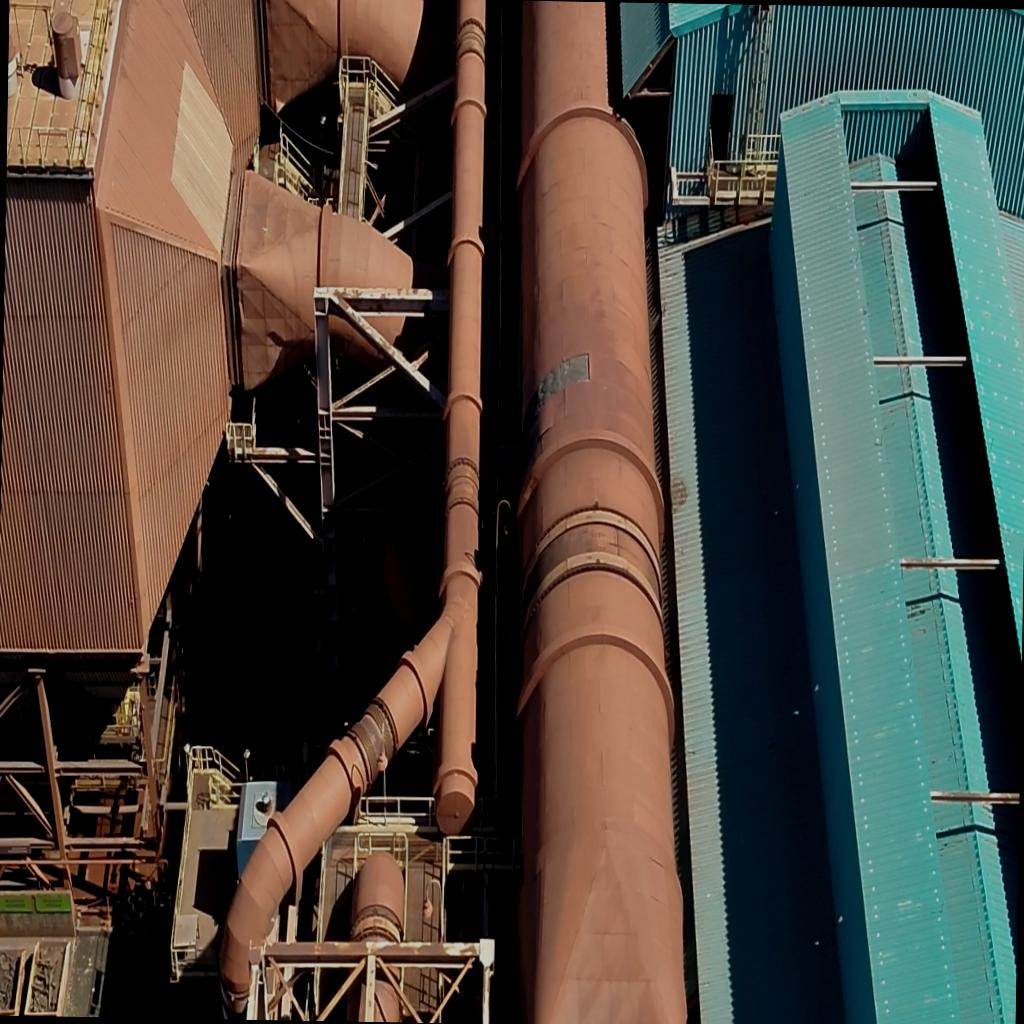Failures: (518, 336, 594, 456)
